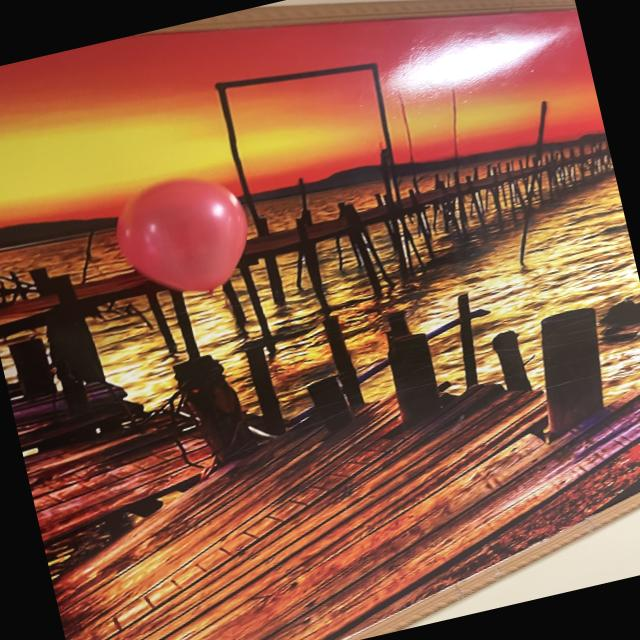balloon: (117, 179, 247, 291)
